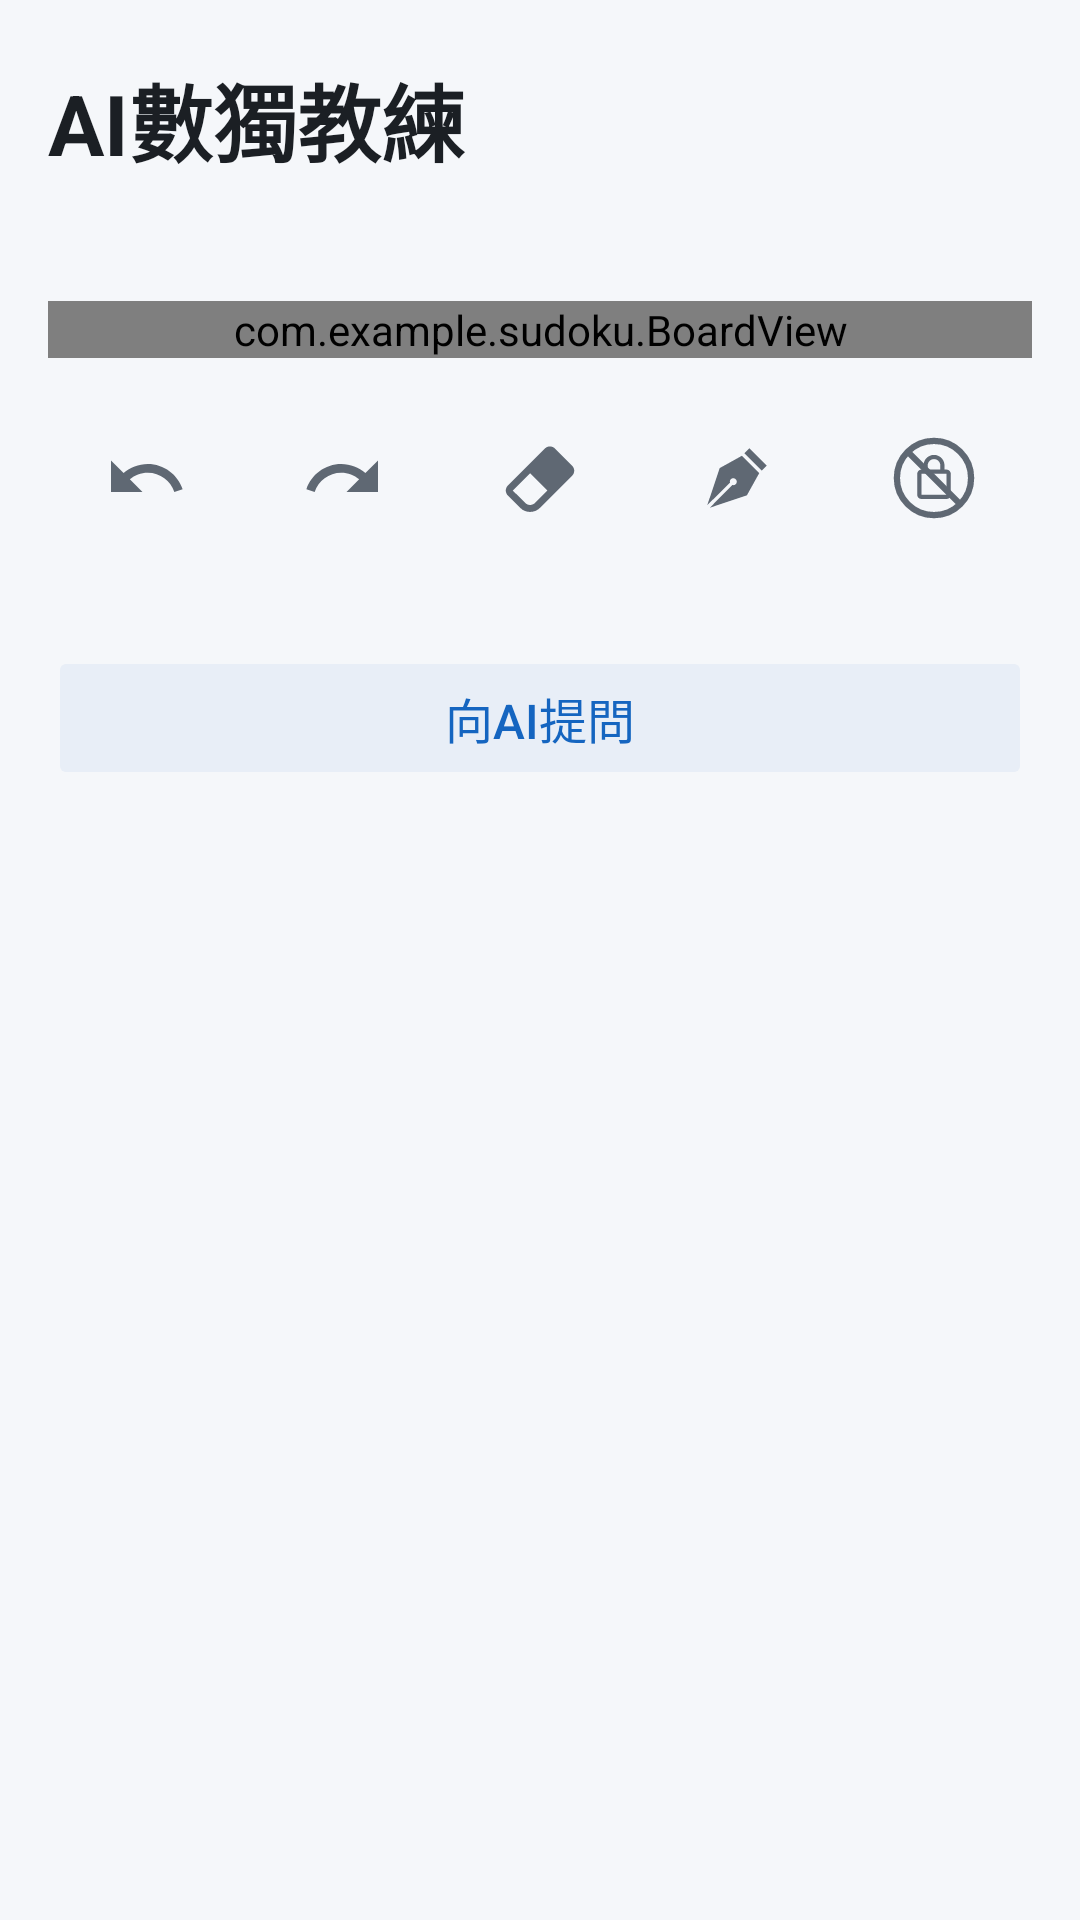

Screen size 1080 x 1920. Icon name, then its box in pixels as bbox=[x1, y1, x2, y2]:
復原: bbox=[111, 461, 183, 492]
清除: bbox=[505, 446, 575, 512]
筆記：關: bbox=[707, 448, 767, 508]
重做: bbox=[306, 461, 378, 492]
鎖定：關: bbox=[893, 437, 975, 519]
